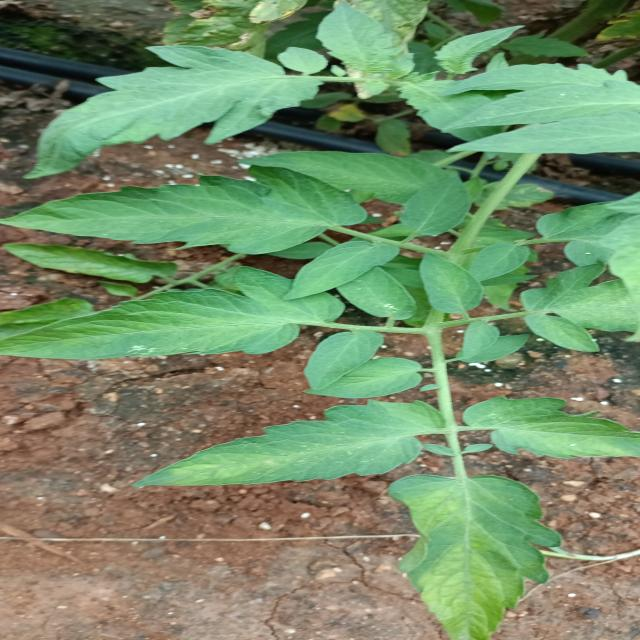Healthy Leaf: (2, 158, 353, 264), (79, 396, 443, 491), (380, 467, 567, 640), (0, 269, 324, 365), (461, 388, 640, 471), (412, 247, 487, 318)
